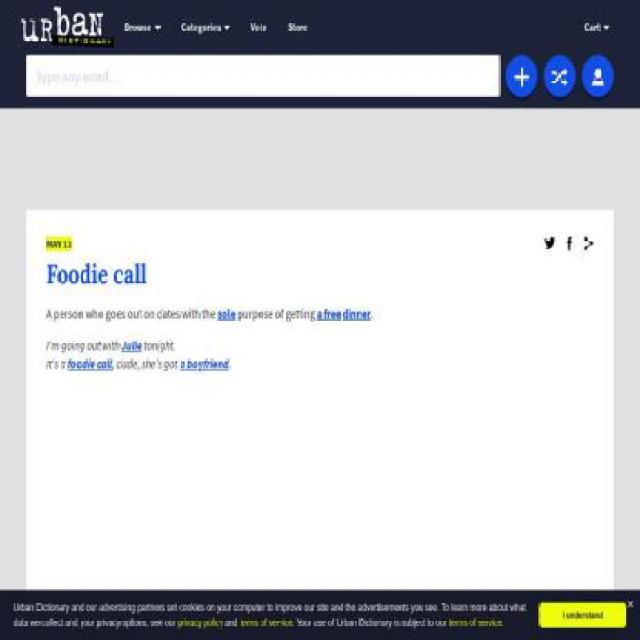button: (453, 94, 618, 118), (171, 7, 240, 48), (538, 602, 628, 629), (113, 7, 172, 48), (574, 7, 620, 48), (277, 7, 318, 48), (239, 7, 278, 48), (505, 55, 538, 97), (581, 55, 614, 97), (544, 55, 576, 97), (120, 56, 145, 90), (156, 56, 181, 90), (192, 56, 217, 90), (229, 56, 254, 90), (265, 56, 290, 90), (120, 153, 145, 187), (156, 153, 181, 187), (192, 153, 217, 187), (229, 153, 254, 187), (265, 153, 290, 187), (120, 202, 145, 236), (156, 202, 181, 236), (192, 202, 217, 236), (229, 202, 254, 236), (265, 202, 290, 236), (120, 250, 145, 284), (156, 250, 181, 284), (192, 250, 217, 284), (229, 250, 254, 284), (265, 250, 290, 284), (120, 298, 145, 332), (156, 298, 181, 332), (192, 298, 217, 332), (120, 105, 145, 138), (156, 105, 181, 138), (192, 105, 217, 138), (229, 105, 254, 138), (265, 105, 290, 138), (544, 236, 556, 252), (583, 236, 594, 252), (564, 236, 574, 252)
field: (26, 55, 500, 97)
